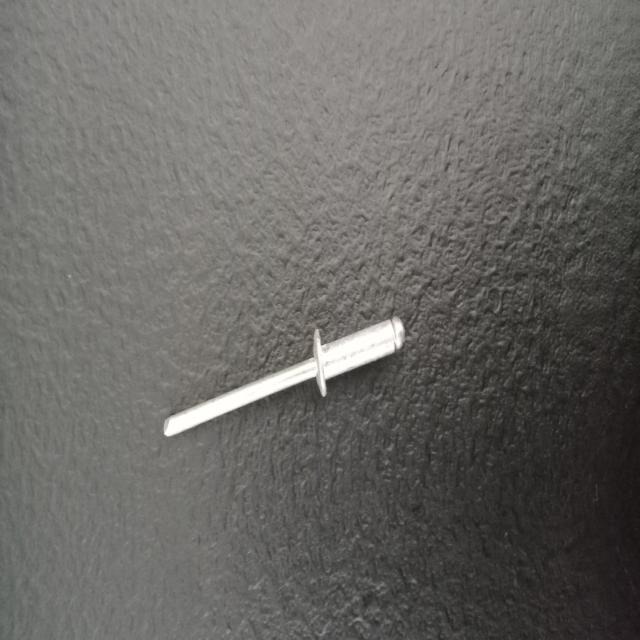rivet: (164, 316, 406, 437)
